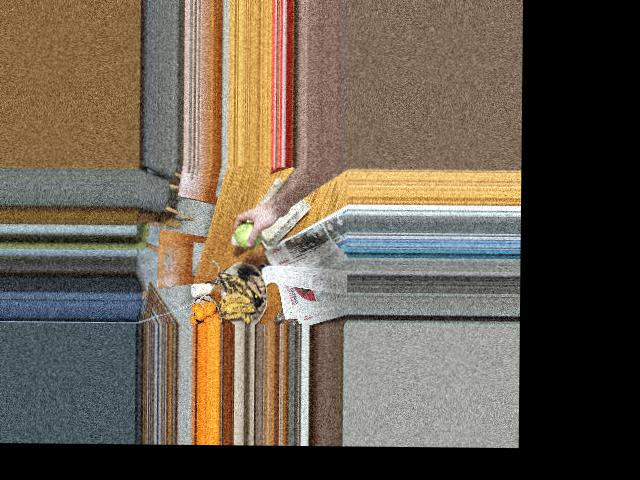apple: (231, 218, 267, 249)
